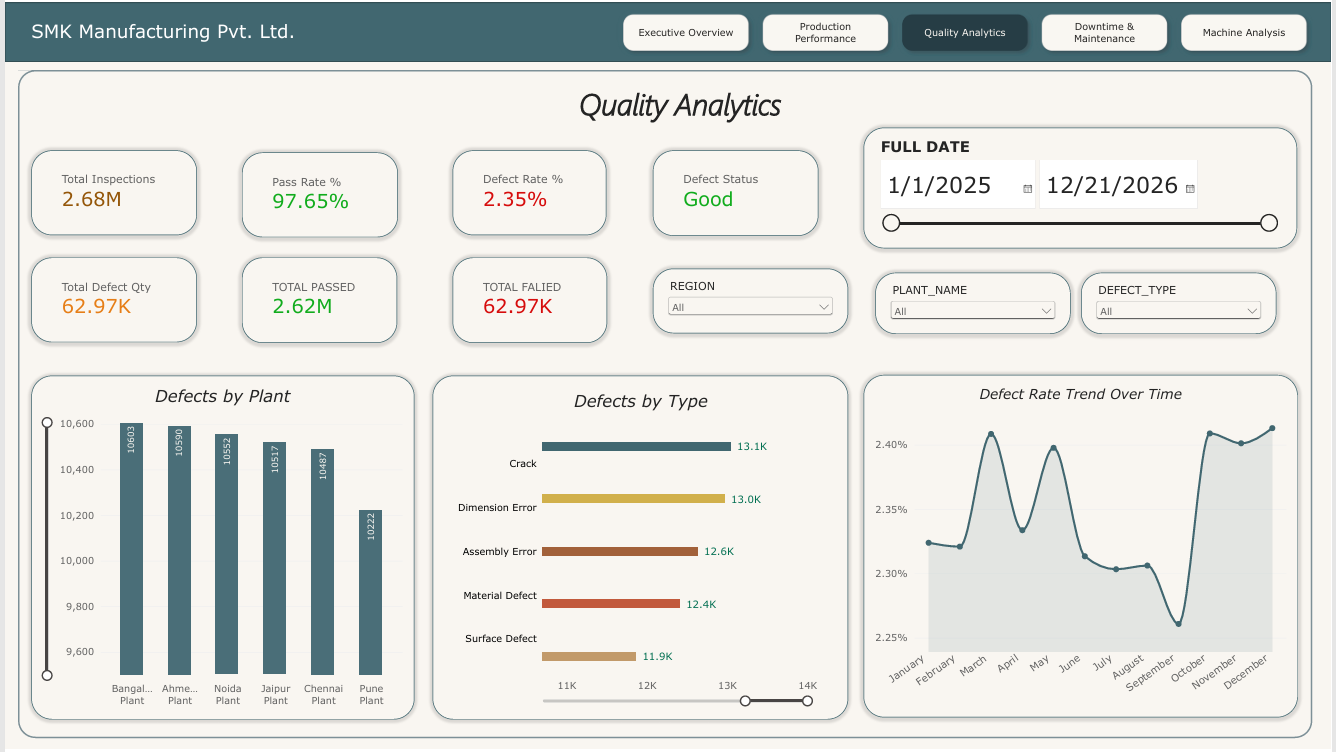

This screenshot's page, from the dashboard's own definition file:
{"tool":"powerbi","page":{"name":"Quality Analytics","canvas":[1920,1080],"ordinal":2},"visuals":[{"type":"shape","box":[19,97.6,1873.8,966.7],"z":0},{"type":"slicer","fields":{"Values":["FACT_QUALITY.DEFECT_TYPE"]},"box":[1558.5,390.6,283,88.7],"z":1000},{"type":"cardVisual","fields":{"Data":["FACT_QUALITY.Total Inspections"]},"box":[38.1,214.3,239.6,122.6],"z":2000},{"type":"cardVisual","fields":{"Data":["FACT_QUALITY.Total Defect Qty"]},"box":[38.1,369,239.6,122.6],"z":3000},{"type":"cardVisual","fields":{"Data":["FACT_QUALITY.Pass Rate %"]},"box":[342.9,216.7,226.4,122.6],"z":4000},{"type":"cardVisual","fields":{"Data":["FACT_QUALITY.Defect Rate %"]},"box":[647.6,214.3,222.6,122.6],"z":5000},{"type":"clusteredColumnChart","title":"Defects by Plant","fields":{"Category":["DIM_PLANT.PLANT_NAME","FACT_QUALITY.DEFECT_TYPE","DIM_DATE.FULL DATE.Variation.Date Hierarchy.Year"],"Y":["FACT_QUALITY.Total Defect Qty"]},"box":[37.7,539.6,554.7,498.1],"z":6000},{"type":"clusteredBarChart","title":"Defects by Type","fields":{"Category":["FACT_QUALITY.DEFECT_TYPE"],"Series":["FACT_QUALITY.DEFECT_TYPE"],"Y":["FACT_QUALITY.Total Defect Qty"]},"box":[618.9,539.6,601.9,498.1],"z":7000},{"type":"lineChart","title":"Defect Rate Trend Over Time","fields":{"Category":["DIM_DATE.FULL_DATE.Variation.Date Hierarchy.Year","DIM_DATE.FULL_DATE.Variation.Date Hierarchy.Quarter","DIM_DATE.FULL_DATE.Variation.Date Hierarchy.Month","DIM_DATE.FULL_DATE.Variation.Date Hierarchy.Day"],"Y":["FACT_QUALITY.Defect Rate %"]},"box":[1243.1,539.2,629.4,496.1],"z":8000},{"type":"cardVisual","fields":{"Data":["FACT_QUALITY.TOTAL FALIED"]},"box":[647.6,369,223.8,123.8],"z":9000},{"type":"cardVisual","fields":{"Data":["FACT_QUALITY.TOTAL PASSED"]},"box":[342.9,369,225.5,123.5],"z":10000},{"type":"slicer","title":"DATE","fields":{"Values":["DIM_DATE.FULL_DATE"]},"box":[1243.4,181.1,628.3,175.5],"z":11000},{"type":"slicer","fields":{"Values":["DIM_PLANT.PLANT_NAME"]},"box":[1260.4,390.6,283,88.7],"z":12000},{"type":"cardVisual","fields":{"Data":["FACT_QUALITY.Defect Status"]},"box":[938.1,214.3,240.5,123.8],"z":13000},{"type":"slicer","fields":{"Values":["DIM_PLANT.REGION"]},"box":[937.7,384.9,283,94.3],"z":14000},{"type":"textbox","box":[831,116.7,352.4,64.3],"z":15000},{"type":"shape","box":[0,0,1920.4,85.7],"z":16000},{"type":"textbox","title":"smk manufacturing","box":[38.1,23.8,438.1,54.8],"z":17000},{"type":"pageNavigator","box":[885.7,8.2,1008.2,71.4],"z":18000}]}

Visuals, with their boxes in screenshot pixels (x1, y1, x2, y2), scaled from the page's 1920x1080 canvas onto the 1336x752 screenshot:
shape: bbox(13, 68, 1317, 741)
slicer - FACT_QUALITY.DEFECT_TYPE: bbox(1084, 272, 1281, 334)
cardVisual - FACT_QUALITY.Total Inspections: bbox(27, 149, 193, 235)
cardVisual - FACT_QUALITY.Total Defect Qty: bbox(27, 257, 193, 342)
cardVisual - FACT_QUALITY.Pass Rate %: bbox(239, 151, 396, 236)
cardVisual - FACT_QUALITY.Defect Rate %: bbox(451, 149, 606, 235)
"Defects by Plant" clusteredColumnChart: bbox(26, 376, 412, 723)
"Defects by Type" clusteredBarChart: bbox(431, 376, 849, 723)
"Defect Rate Trend Over Time" lineChart: bbox(865, 375, 1303, 721)
cardVisual - FACT_QUALITY.TOTAL FALIED: bbox(451, 257, 606, 343)
cardVisual - FACT_QUALITY.TOTAL PASSED: bbox(239, 257, 396, 343)
"DATE" slicer: bbox(865, 126, 1302, 248)
slicer - DIM_PLANT.PLANT_NAME: bbox(877, 272, 1074, 334)
cardVisual - FACT_QUALITY.Defect Status: bbox(653, 149, 820, 235)
slicer - DIM_PLANT.REGION: bbox(652, 268, 849, 334)
textbox: bbox(578, 81, 823, 126)
shape: bbox(0, 0, 1335, 60)
"smk manufacturing" textbox: bbox(27, 17, 331, 55)
pageNavigator: bbox(616, 6, 1318, 55)
